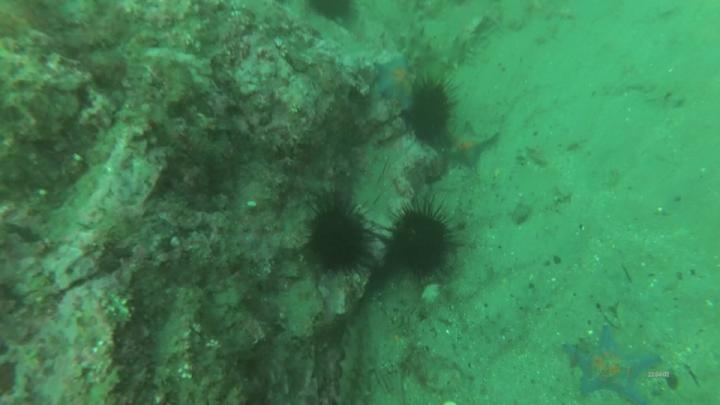echinus: (313, 203, 368, 273), (394, 207, 447, 276), (415, 85, 450, 144)
holothurian: (344, 322, 377, 405)
starfish: (565, 326, 661, 405), (374, 60, 411, 103), (452, 126, 490, 163)
